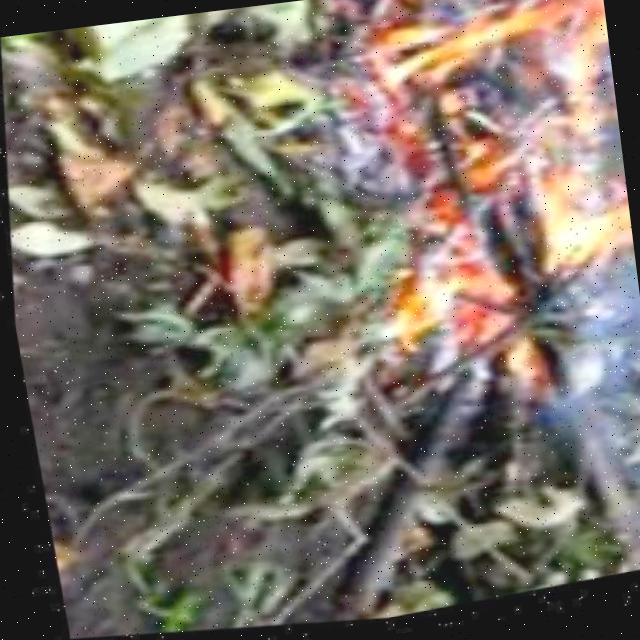fire: (332, 0, 640, 398)
